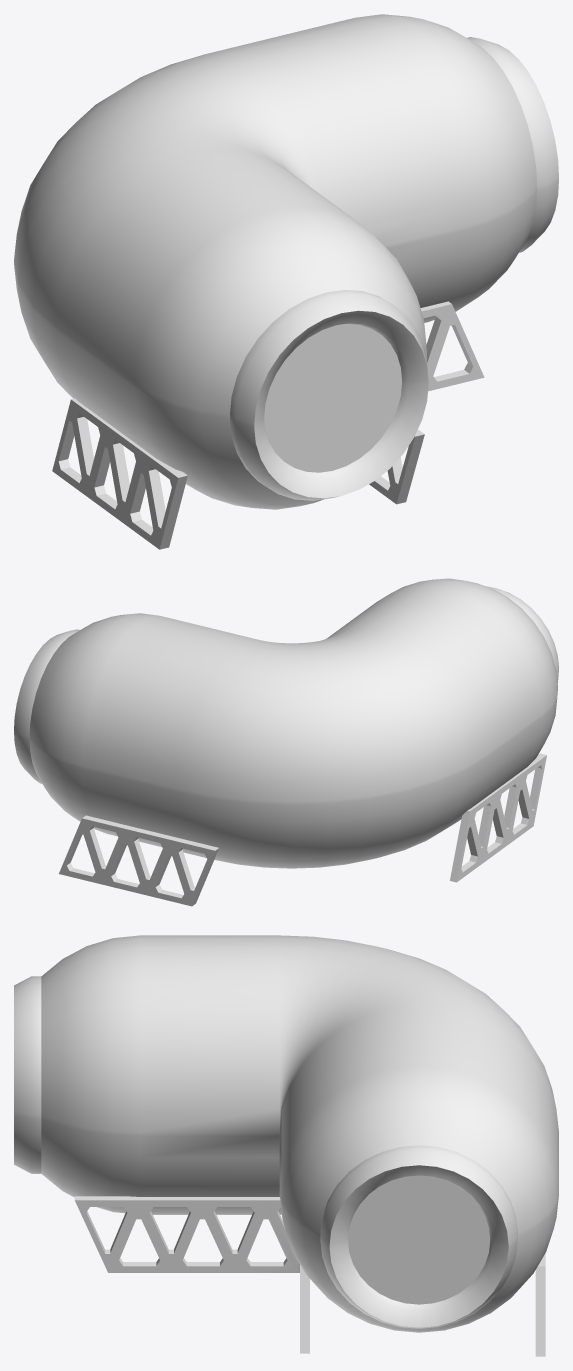
File: mvd_war_factory.glb
3 renders of one model, top to bottom at view 1: azimuth 30°, elevation 25°; view 2: azimuth 150°, elevation 25°; view 3: azimuth 270°, elevation 25°, orthographic. The views are drawn at different scales.
Visible parts, largest first — view 1: Body; view 2: Body; view 3: Body.
Boxes of the visible parts, x1,y1,x2,y2 form: Body: (14, 14, 558, 549); Body: (14, 578, 558, 906); Body: (14, 935, 558, 1356).
Size of the model in its own units: 20 by 11.07 by 19.99.
1 material, 1 textured.
